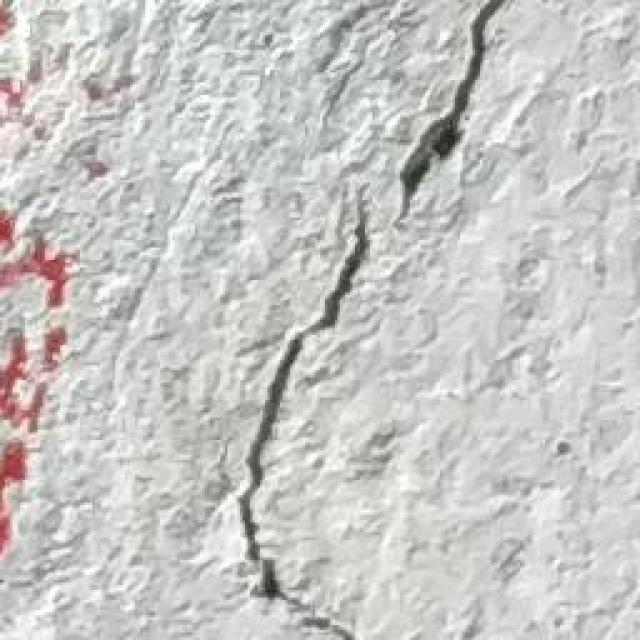Diagonal: (235, 0, 510, 640)
